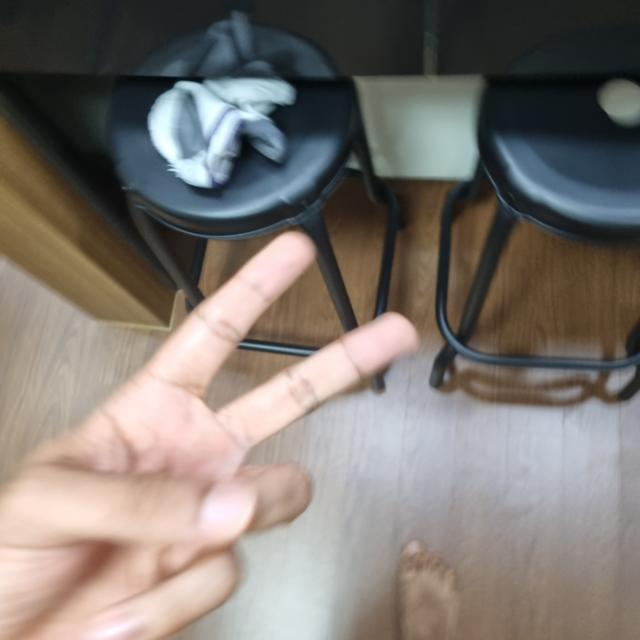Scissors: (0, 240, 412, 639)
